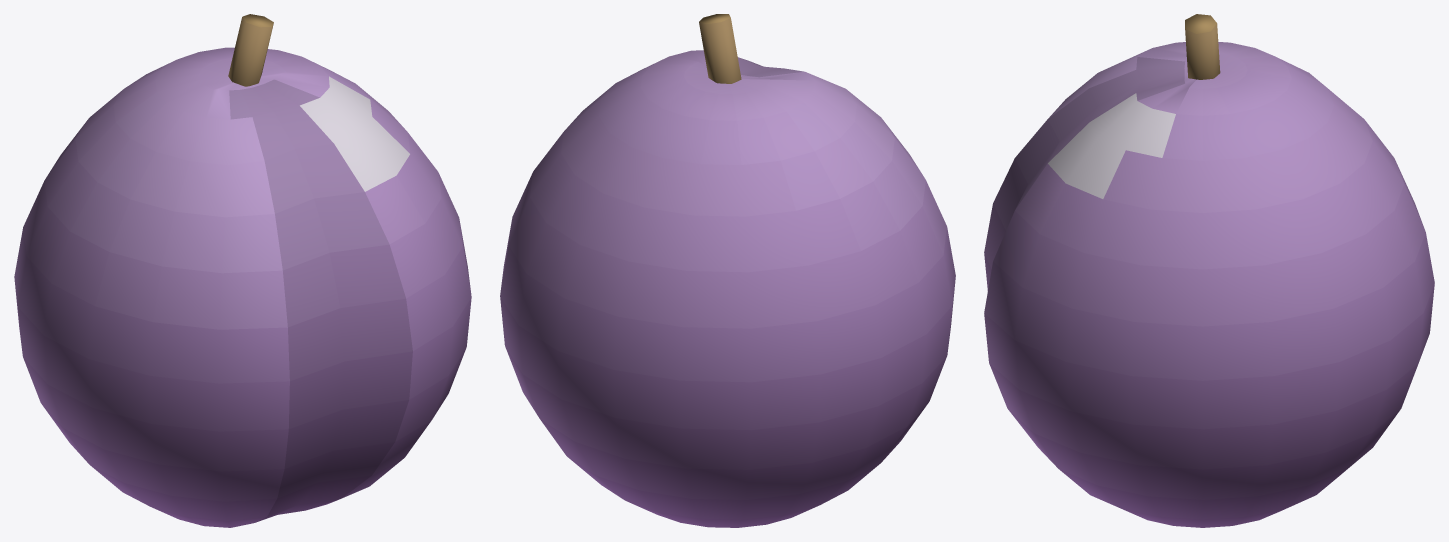
File: Plum.glb
3 renders of one model, left to right at view 1: azimuth 30°, elevation 25°; view 2: azimuth 150°, elevation 25°; view 3: azimuth 270°, elevation 25°, orthographic.
Visible parts, largest first — view 1: Plum, PlumStem; view 2: Plum, PlumStem; view 3: Plum, PlumStem.
Boxes of the visible parts, box(x1,y1,x2,y2) form: Plum: box(14, 47, 471, 527); PlumStem: box(228, 14, 273, 86); Plum: box(500, 50, 955, 527); PlumStem: box(699, 14, 741, 83); Plum: box(984, 42, 1434, 527); PlumStem: box(1185, 14, 1220, 79).
Bounding box in the file's own units: 0.96 × 1.13 × 0.9329.
